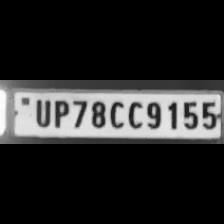1: (164, 99, 181, 130)
5: (199, 98, 221, 130), (179, 98, 199, 130)
7: (69, 97, 87, 128)
8: (88, 98, 106, 130)
9: (142, 99, 162, 130)
C: (107, 98, 125, 130), (124, 98, 142, 130)
P: (50, 97, 70, 128)
U: (30, 96, 52, 128)
